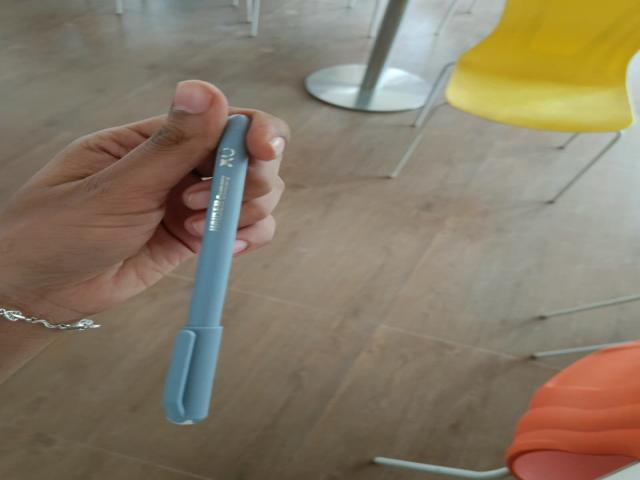PEN: (163, 111, 247, 430)
